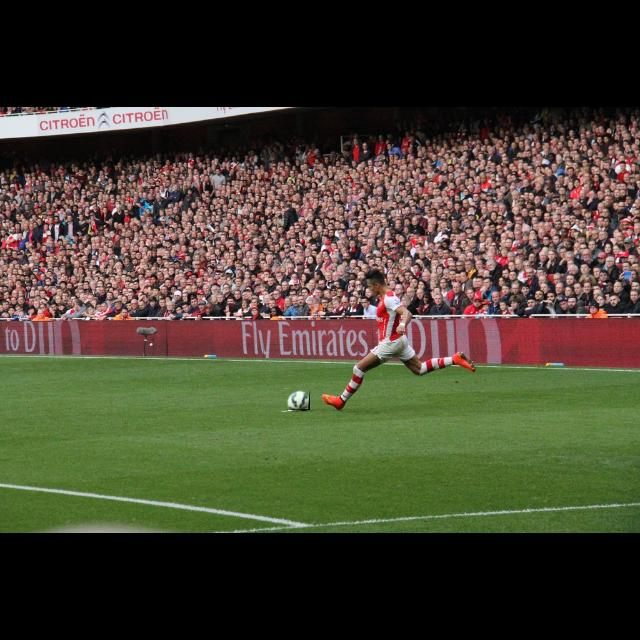Football: (284, 388, 310, 410)
